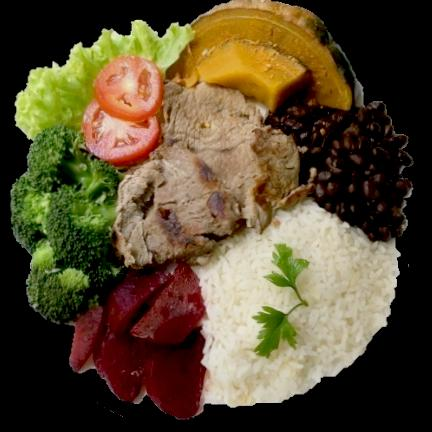beans: (266, 103, 412, 240)
beet: (71, 264, 205, 416)
broccoli: (12, 125, 124, 323)
meat: (114, 83, 304, 268)
rice: (193, 200, 399, 406)
salad: (16, 20, 193, 139)
tomato: (81, 55, 163, 166)
